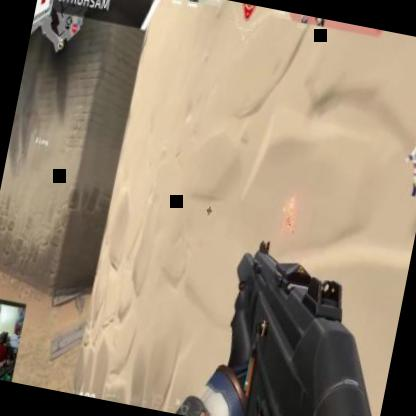enemy: (277, 194, 300, 235)
enemy_head: (288, 196, 294, 206)
